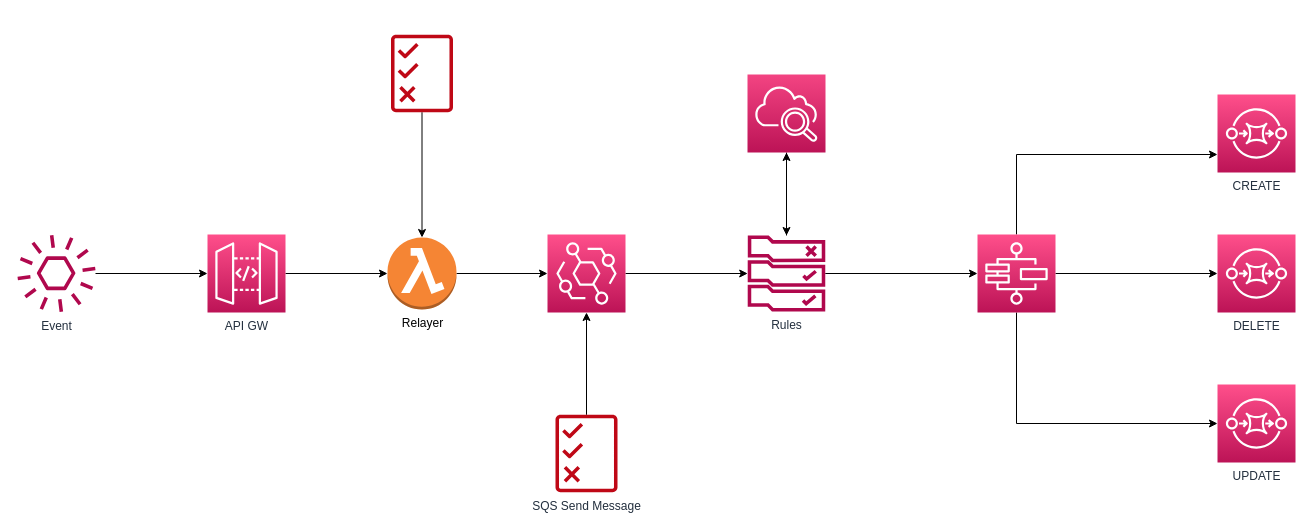
The diagram is 1313 pixels wide and 530 high, and some of its shapes have lost their labels. The shapes that lost their labels are listed below. From the top down, each one's box as (x1, y1, x2, y2) in pixels, then its label:
(390, 34, 452, 112): PuetEvents
(746, 74, 826, 152): CloudWatch
(546, 234, 626, 312): EvenBus
(976, 234, 1056, 312): Step function
